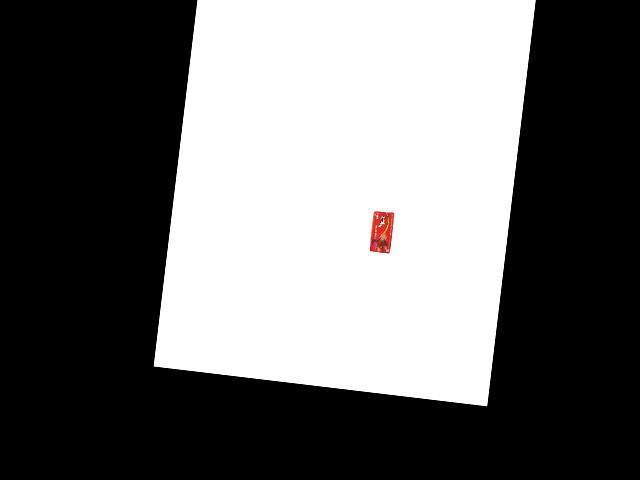chocolate: (369, 208, 396, 254)
